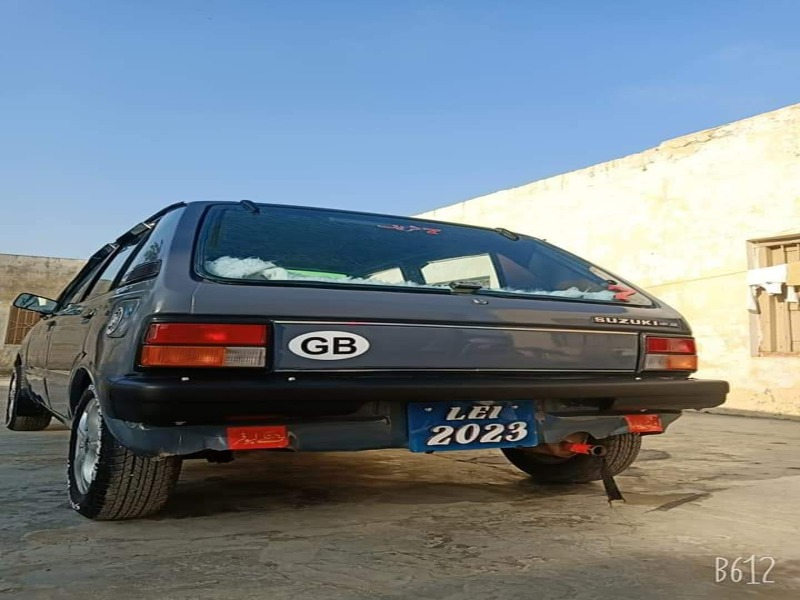License Plate: (404, 394, 542, 460)
